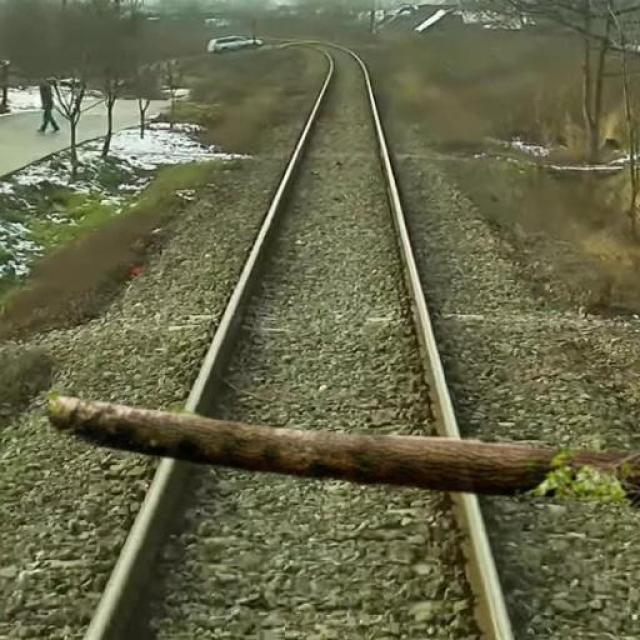Branches: (44, 384, 640, 502)
people: (31, 78, 64, 136)
vehicle: (204, 29, 272, 57)
